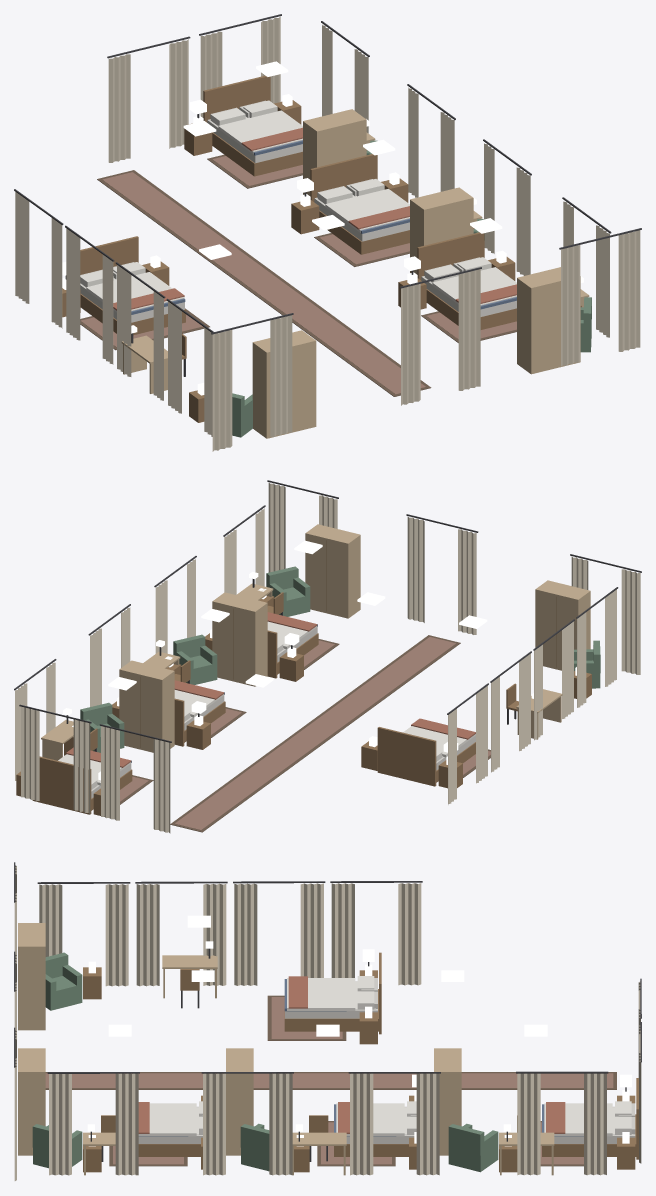
The model's file is fine-s2.glb.
3 views of the same model, one above another, from view 1: azimuth 30°, elevation 25°; view 2: azimuth 150°, elevation 25°; view 3: azimuth 270°, elevation 25° (orthographic). The views are drawn at different scales.
Parts seen in each view (by area): view 1: soft-s2, dresser.007, dresser.004, bed-frame.005, bed-frame.006, bed-frame.007, dresser.005, dresser.006, bed-frame.004, writing-desk.004, nightstand.012, lounge-chair.004 (+2 smaller); view 2: soft-s2, dresser.007, dresser.006, dresser.005, dresser.004, bed-frame.004, bed-frame.005, lounge-chair.006, lounge-chair.007, bed-frame.007, bed-frame.006, lounge-chair.005 (+6 smaller); view 3: soft-s2, dresser.004, dresser.007, dresser.006, dresser.005, bed-frame.004, lounge-chair.005, lounge-chair.004, bed-frame.005, bed-frame.007, lounge-chair.006, bed-frame.006 (+10 smaller).
Boxes of the visible parts, x1,y1,x2,y2 form: soft-s2: (14, 14, 641, 451); dresser.007: (517, 267, 580, 374); dresser.004: (252, 330, 316, 438); bed-frame.005: (203, 75, 302, 176); bed-frame.006: (310, 154, 409, 254); bed-frame.007: (417, 232, 516, 329); dresser.005: (303, 109, 366, 195); dresser.006: (410, 187, 473, 274); bed-frame.004: (80, 236, 185, 335); writing-desk.004: (121, 325, 167, 393); nightstand.012: (291, 194, 319, 234); lounge-chair.004: (232, 393, 252, 437); soft-s2: (14, 480, 641, 833); dresser.007: (305, 524, 360, 618); dresser.006: (212, 592, 267, 686); dresser.005: (119, 660, 174, 752); dresser.004: (535, 580, 590, 670); bed-frame.004: (377, 727, 475, 786); bed-frame.005: (32, 756, 132, 814); lounge-chair.006: (173, 634, 217, 684); lounge-chair.007: (266, 566, 310, 616); bed-frame.007: (267, 624, 318, 678); bed-frame.006: (174, 692, 225, 746); lounge-chair.005: (80, 702, 124, 752); soft-s2: (14, 862, 641, 1180); dresser.004: (18, 923, 45, 1030); dresser.007: (18, 1048, 45, 1155); dresser.006: (226, 1048, 253, 1155); dresser.005: (434, 1048, 461, 1155); bed-frame.004: (284, 952, 381, 1034); lounge-chair.005: (448, 1123, 498, 1172); lounge-chair.004: (45, 952, 82, 1010); bed-frame.005: (542, 1078, 638, 1159); bed-frame.007: (138, 1106, 202, 1156); lounge-chair.006: (240, 1123, 269, 1171); bed-frame.006: (334, 1104, 416, 1156).
Size of the model in its own units: 10.45 by 2.81 by 13.59.
